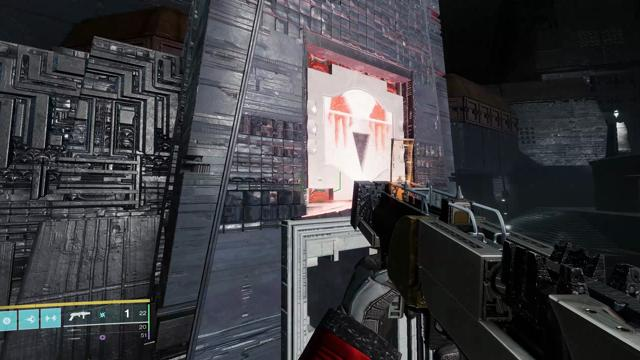give: (323, 88, 395, 181)
